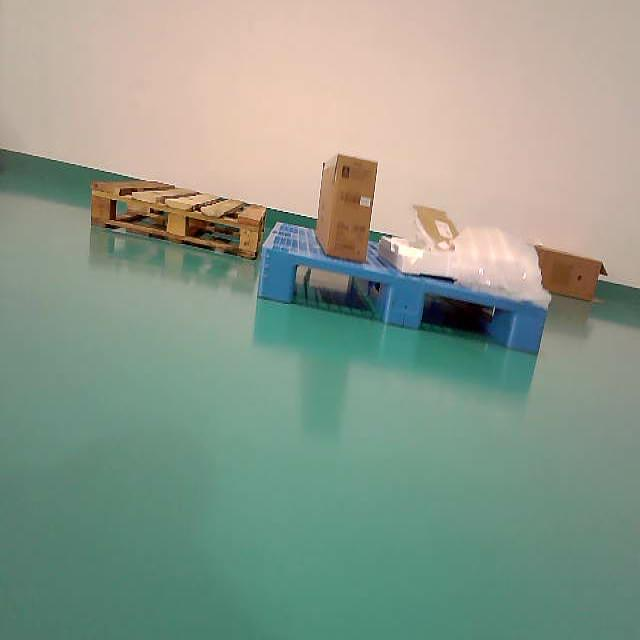euro: (91, 181, 263, 259)
